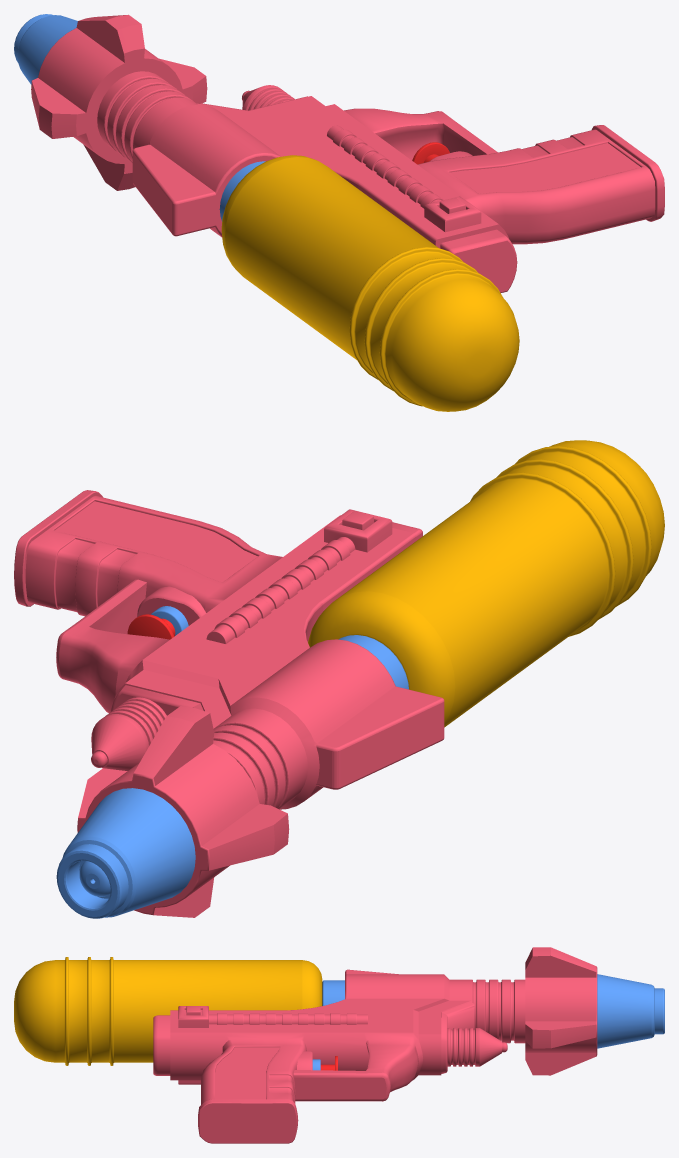
3 views of the same model, one above another, from view 1: azimuth 30°, elevation 25°; view 2: azimuth 150°, elevation 25°; view 3: azimuth 270°, elevation 25° (orthographic). The views are drawn at different scales.
Visible parts, largest first — view 1: Cylinder.002, Cylinder, Cylinder.008, Cylinder.003, Cylinder.004; view 2: Cylinder.002, Cylinder, Cylinder.003, Cylinder.008, Cylinder.004, Cylinder.005, Cylinder.001, Cylinder.007; view 3: Cylinder.002, Cylinder, Cylinder.003, Cylinder.008, Cylinder.004, Cylinder.001.
Part boxes in pixels (x1,y1,x2,y2): Cylinder.002: (31,14,664,292); Cylinder: (221,155,519,411); Cylinder.008: (327,125,481,232); Cylinder.003: (14,14,77,84); Cylinder.004: (242,85,294,110); Cylinder.002: (14,490,444,917); Cylinder: (308,440,664,727); Cylinder.003: (56,788,195,918); Cylinder.008: (206,509,392,643); Cylinder.004: (91,697,166,770); Cylinder.005: (137,586,205,625); Cylinder.001: (338,635,408,689); Cylinder.007: (127,614,175,639); Cylinder.002: (153,947,597,1143); Cylinder: (14,957,322,1065); Cylinder.003: (597,974,664,1048); Cylinder.008: (178,1006,367,1084); Cylinder.004: (447,1028,507,1066); Cylinder.001: (322,980,344,1005).
Bounding box in the file's own units: 65.07 × 26.02 × 127.
